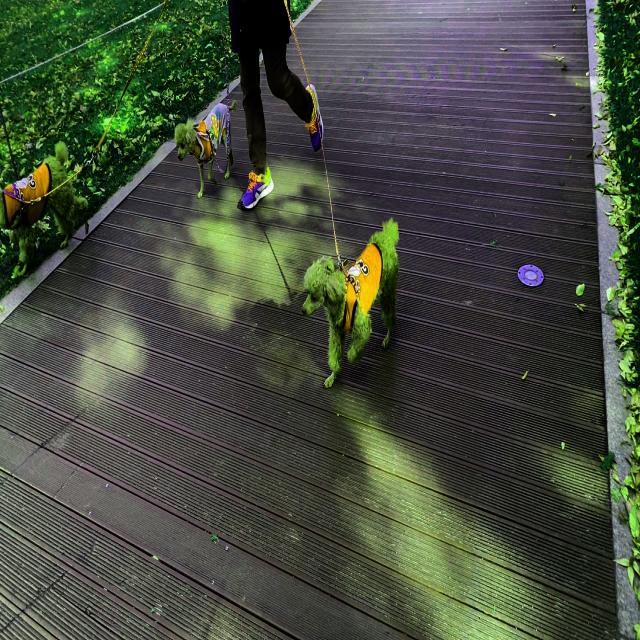Leashed_Dog: (0, 0, 251, 278), (243, 0, 400, 391), (175, 0, 264, 200)
